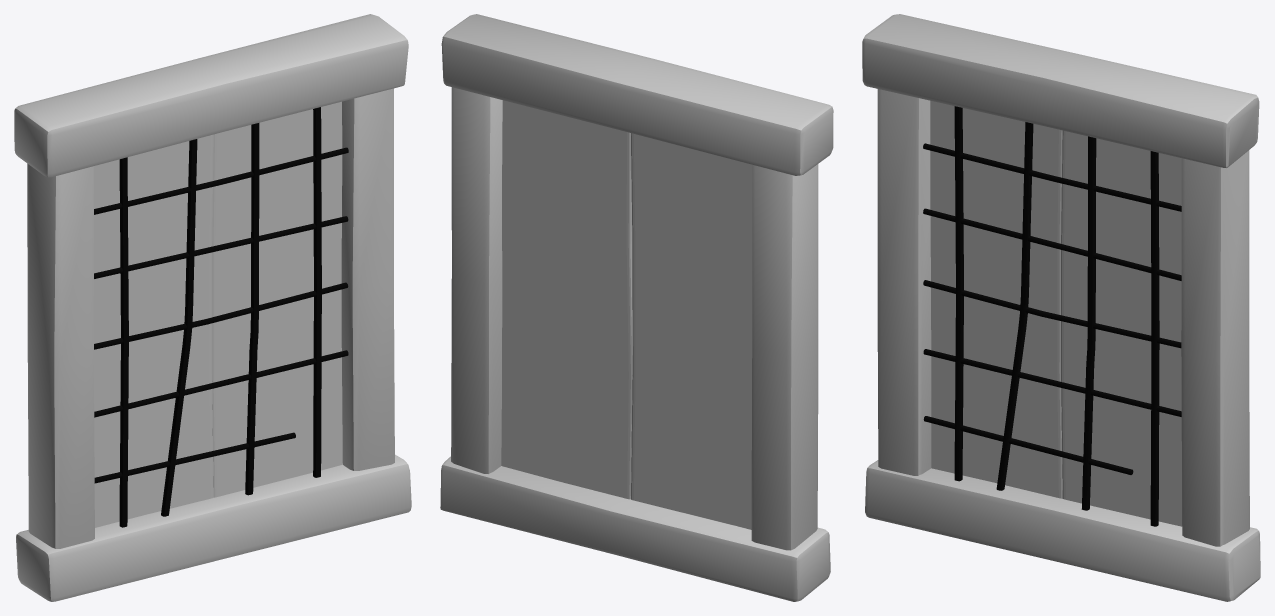
Rendered from SM_Window_03.FBX.
The picture shows the model from 3 angles, left to right: view 1: azimuth 30°, elevation 25°; view 2: azimuth 150°, elevation 25°; view 3: azimuth 330°, elevation 25°; orthographic projection.
Parts seen in each view (by area): view 1: SM_Window_03, SM_Window_03_Shutter_Right, SM_Window_03_Shutter_Left; view 2: SM_Window_03, SM_Window_03_Shutter_Right, SM_Window_03_Shutter_Left; view 3: SM_Window_03, SM_Window_03_Shutter_Left, SM_Window_03_Shutter_Right.
Part boxes in pixels (x1,y1,x2,y2): SM_Window_03: (14,14,411,601); SM_Window_03_Shutter_Right: (212,101,342,497); SM_Window_03_Shutter_Left: (94,134,213,527); SM_Window_03: (440,14,833,601); SM_Window_03_Shutter_Right: (501,100,632,499); SM_Window_03_Shutter_Left: (631,133,752,529); SM_Window_03: (862,14,1260,601); SM_Window_03_Shutter_Left: (930,100,1062,498); SM_Window_03_Shutter_Right: (1061,130,1182,526).
Bounding box in the file's own units: 1.06 × 1.34 × 0.1914.
